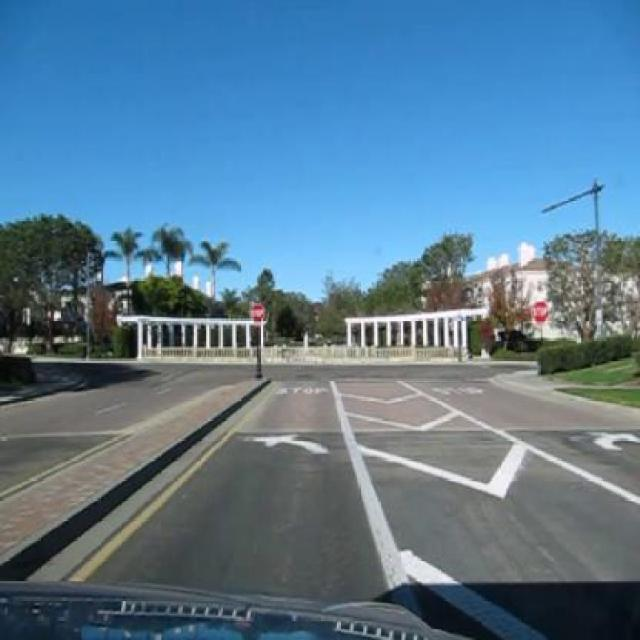stop: (530, 298, 548, 322), (249, 302, 265, 323)
